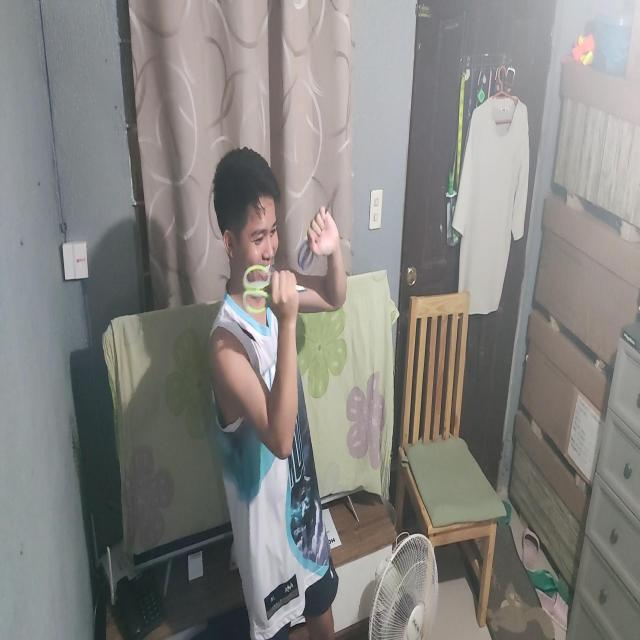scissor: (242, 267, 308, 312), (298, 198, 331, 270)
